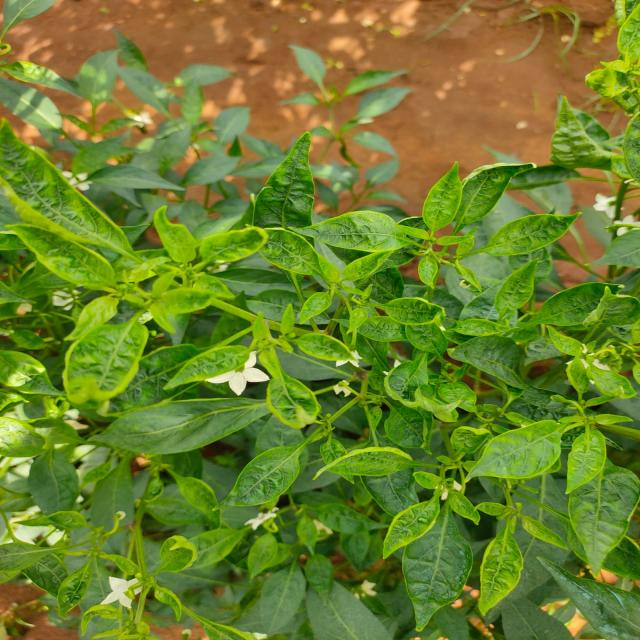Moko: (199, 270, 640, 564), (0, 91, 266, 392), (220, 148, 604, 328), (27, 470, 278, 638), (540, 0, 640, 181), (0, 20, 86, 95)
